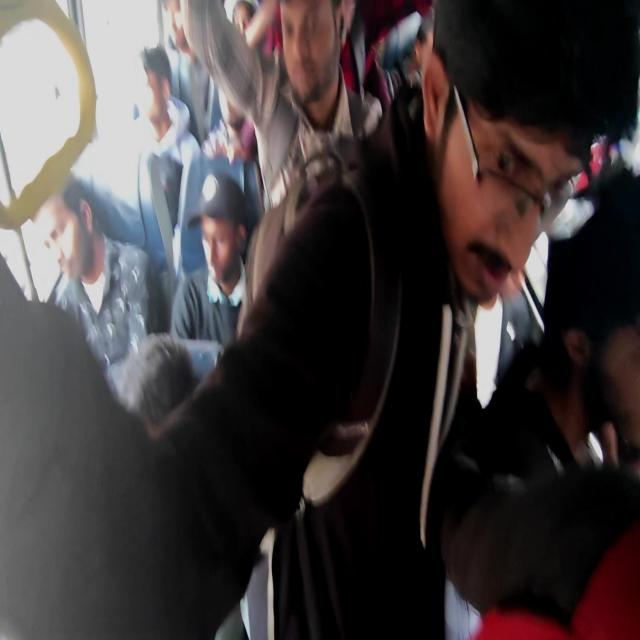person: (443, 166, 639, 628), (183, 1, 403, 224), (118, 332, 228, 632), (439, 72, 575, 312), (39, 180, 163, 375), (158, 1, 214, 143), (192, 175, 251, 302), (126, 43, 179, 138), (45, 195, 89, 283)
